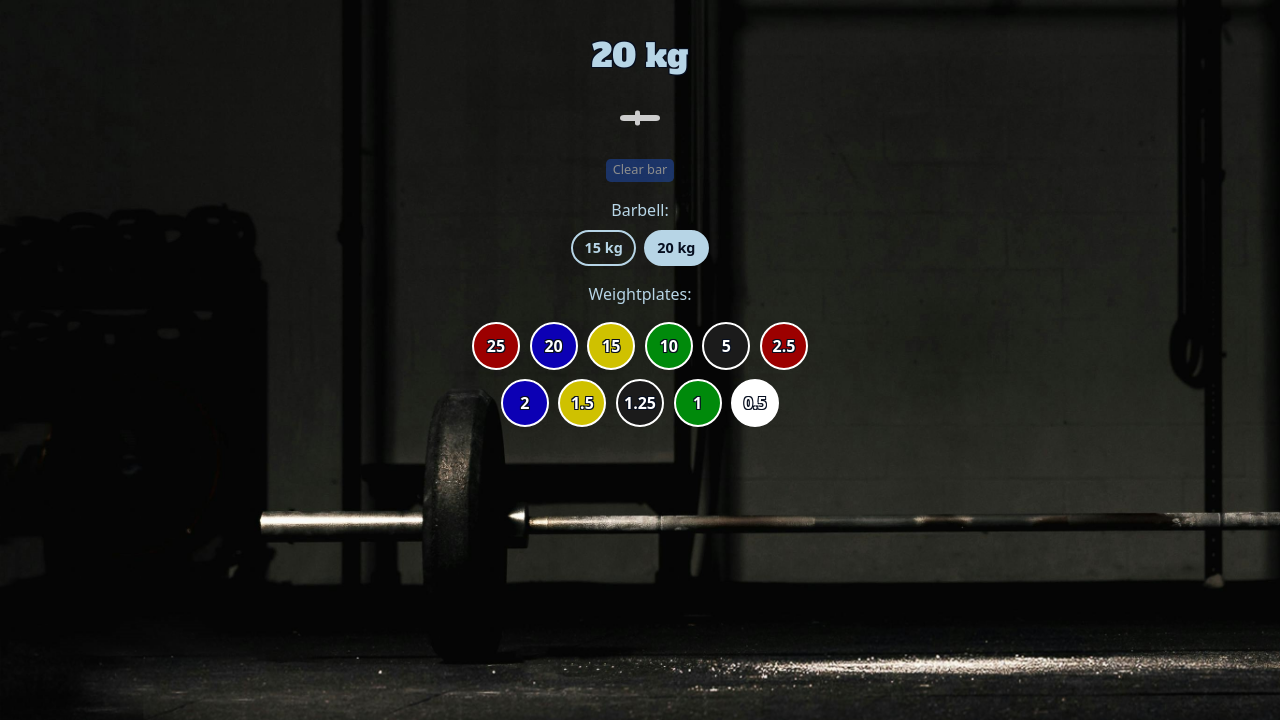
FreeCalc › clears all plates when the clear bar button is clicked
Click the button named "add 10 kg plate" at (669, 346), box x1=645 y1=322 x2=693 y2=370
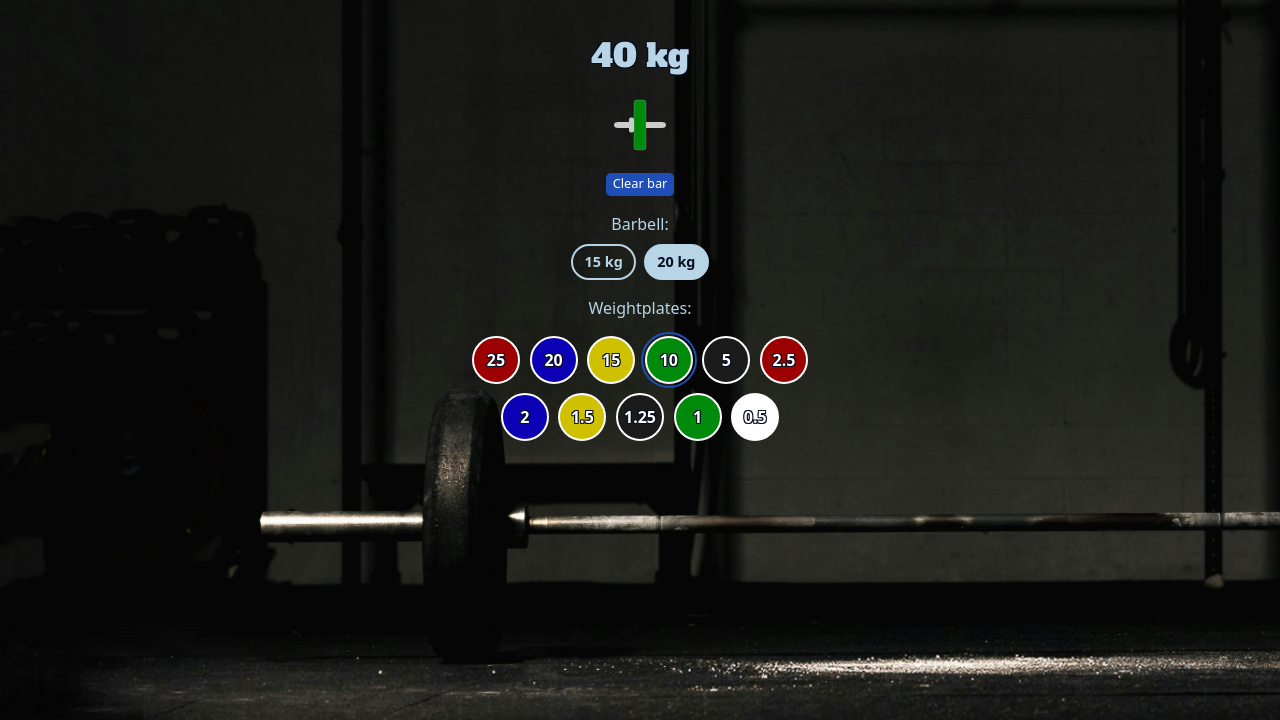
Click the button named "add 20 kg plate" at (554, 360), box x1=530 y1=336 x2=578 y2=384
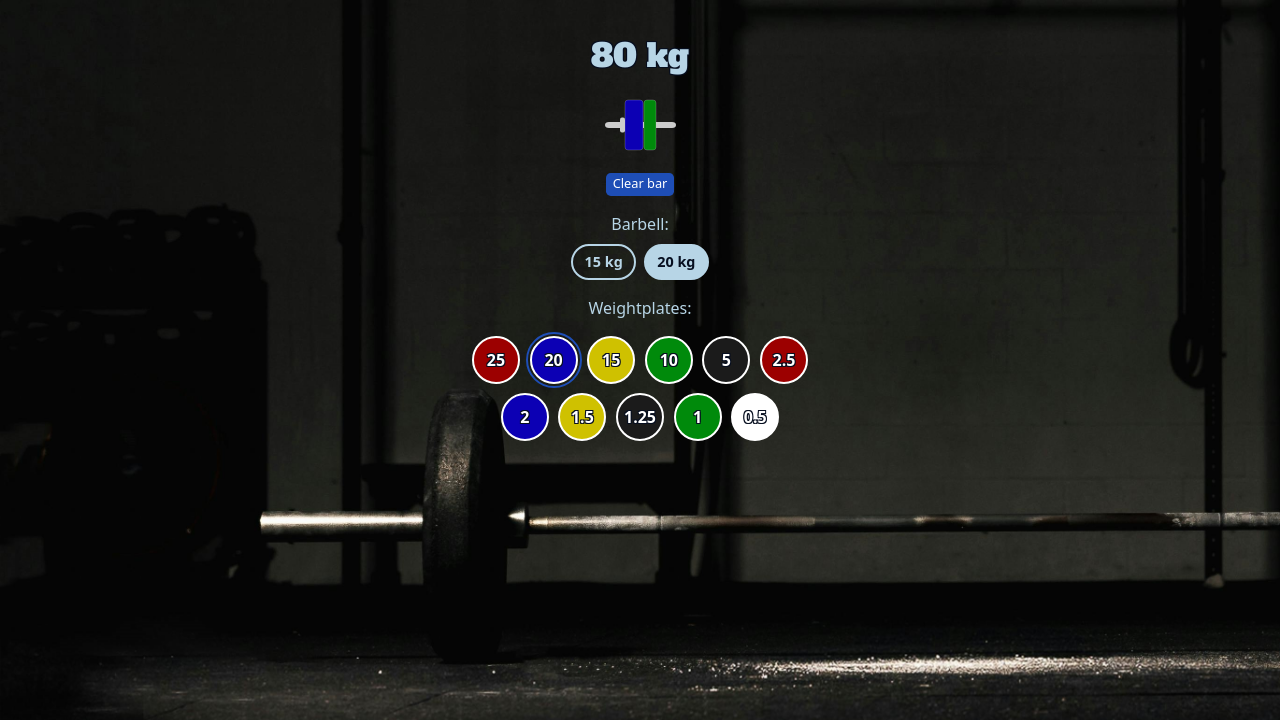
Click the button "Clear bar" at (640, 185), box x1=606 y1=173 x2=674 y2=196
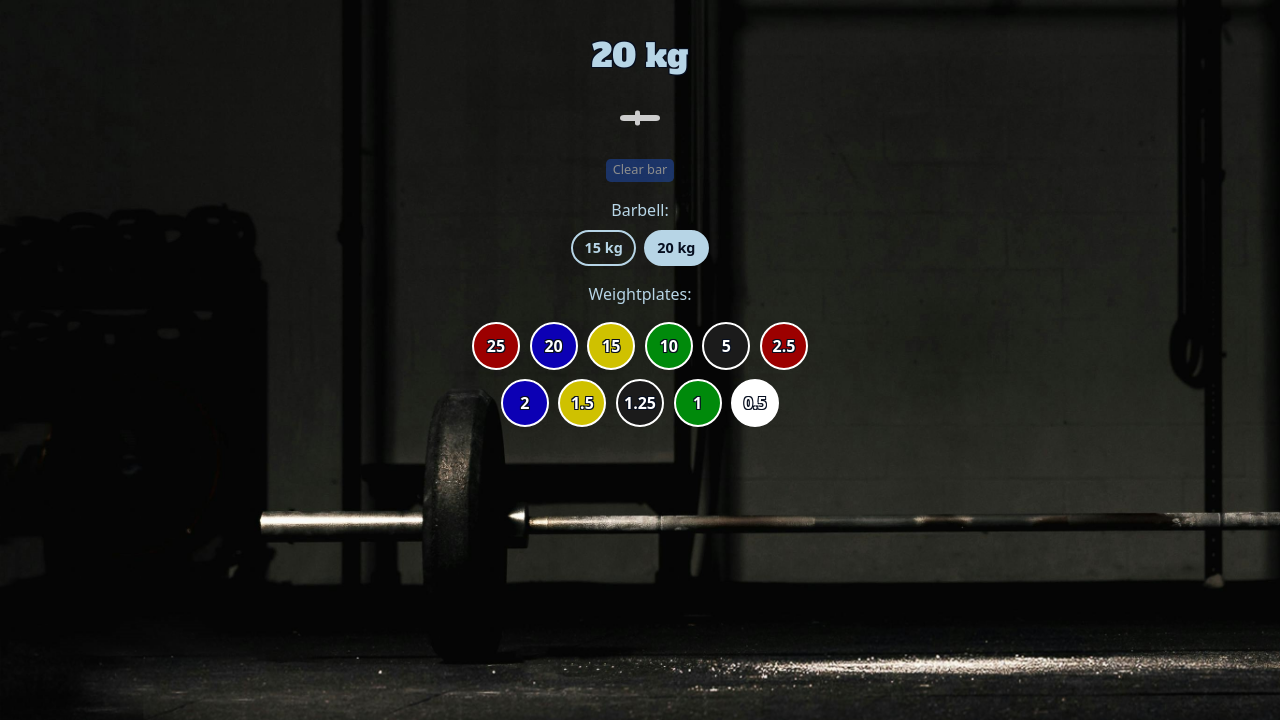
Now the text "20 kg" is shown, box x1=592 y1=34 x2=688 y2=78
